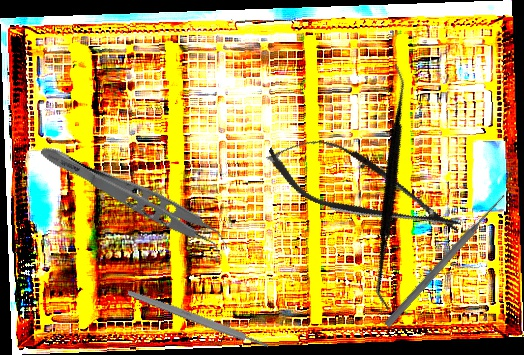Micro Scissor: (257, 120, 472, 257)
Pusher: (382, 191, 509, 330)
Scalpel Handle: (126, 288, 270, 351)
Spatula Surgical: (287, 62, 497, 312)
Tissue Forceps: (31, 140, 236, 262)
